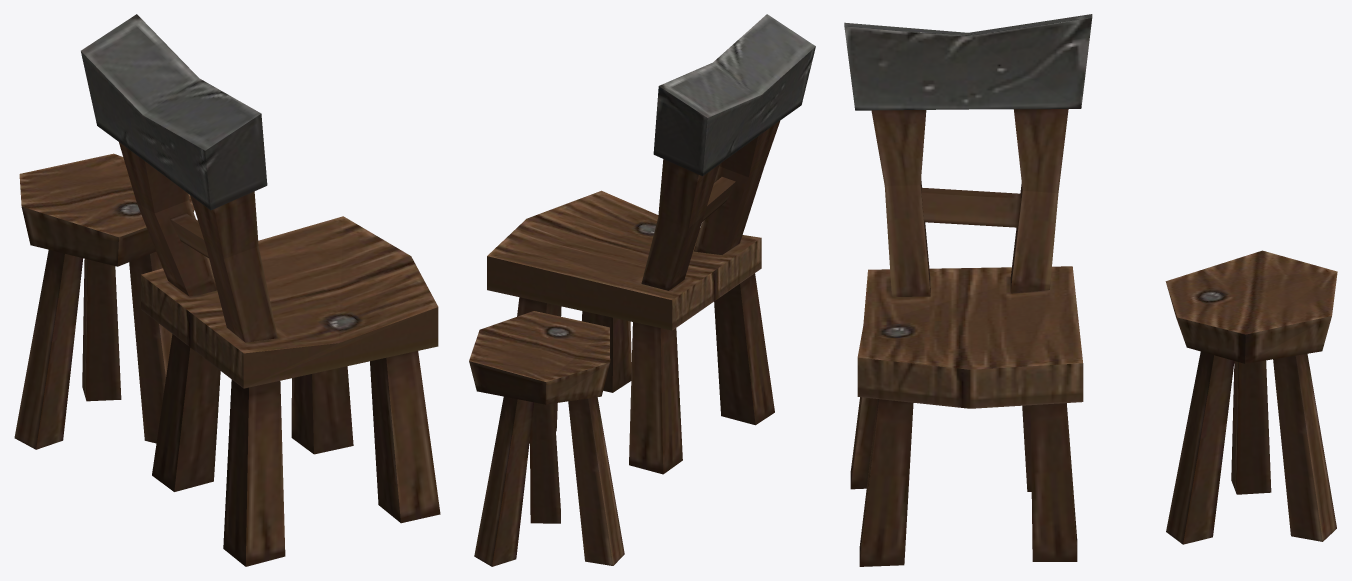
File: Anmaodao_yizi.FBX
3 renders of one model, left to right at view 1: azimuth 30°, elevation 25°; view 2: azimuth 150°, elevation 25°; view 3: azimuth 270°, elevation 25°, orthographic. The views are drawn at different scales.
Visible parts, largest first — view 1: Anmaodao_yizi; view 2: Anmaodao_yizi; view 3: Anmaodao_yizi.
Boxes of the visible parts, <box> form: Anmaodao_yizi: <box>14,14,440,566</box>; Anmaodao_yizi: <box>469,14,815,566</box>; Anmaodao_yizi: <box>844,14,1337,566</box>.
Bounding box in the file's own units: 28.38 × 45.24 × 48.28.
